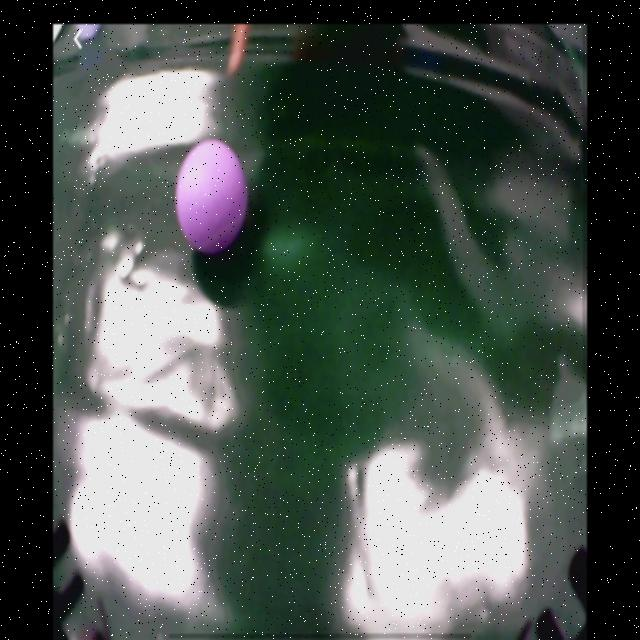ball: (175, 140, 247, 254)
